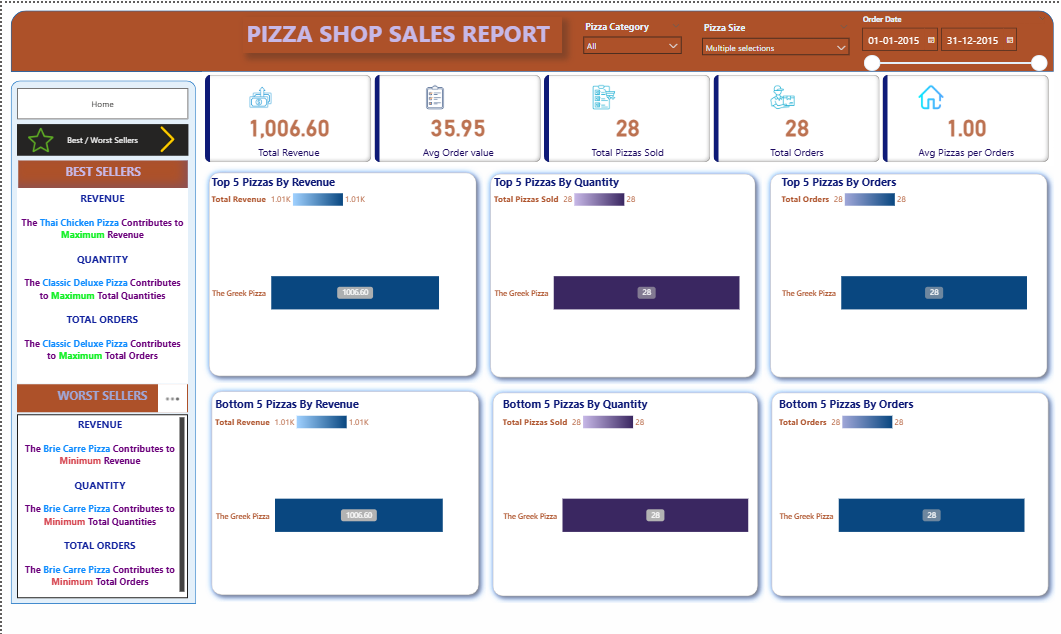

The dashboard page shown, as its layout file describes it:
{"tool":"powerbi","page":{"name":"Best / Worst Sellers","canvas":[1700,1020],"ordinal":1},"visuals":[{"type":"shape","box":[14.3,123.2,296.4,837.5],"z":0},{"type":"shape","box":[13.8,12.1,1669,98.3],"z":1000},{"type":"cardVisual","fields":{"Data":["Tbl_Pizza_Sales.Total Revenue","Tbl_Pizza_Sales.Avg Order value","Tbl_Pizza_Sales.Total Pizzas Sold","Tbl_Pizza_Sales.Total Orders","Tbl_Pizza_Sales.Avg Pizzas per Orders"]},"box":[320.7,110.3,1362.1,150],"z":2000},{"type":"shape","box":[320.7,260.3,450,348.3],"z":3000},{"type":"textbox","title":"PIZZA SHOP SALES REPORT","box":[386.2,21.5,510.8,58.5],"z":4000},{"type":"textbox","box":[26.8,251.8,271.4,44.6],"z":5000},{"type":"textbox","box":[25,296.4,273.2,312.5],"z":6000},{"type":"textbox","box":[25,610.7,273.2,44.6],"z":7000},{"type":"textbox","box":[25,657.1,273.2,294.6],"z":8000},{"type":"slicer","fields":{"Values":["Tbl_Pizza_Sales.pizza_category"]},"box":[920,21.5,176.9,70.8],"z":9000},{"type":"slicer","fields":{"Values":["Tbl_Pizza_Sales.order_date"]},"box":[1364.6,12.3,316.9,98.5],"z":10000},{"type":"shape","box":[770.7,262.1,446.6,348.3],"z":11000},{"type":"shape","box":[1217.2,262.1,465.5,348.3],"z":12000},{"type":"shape","box":[323.8,610,450,348.3],"z":13000},{"type":"shape","box":[773.8,611.7,446.6,348.3],"z":14000},{"type":"shape","box":[1220.3,611.7,465.5,348.3],"z":15000},{"type":"barChart","title":"Top 5 Pizzas By Revenue","fields":{"Category":["Tbl_Pizza_Sales.pizza_name"],"Y":["Tbl_Pizza_Sales.Total Revenue"]},"box":[329.3,274.1,424.1,322.4],"z":16000},{"type":"barChart","title":"Bottom 5 Pizzas By Revenue","fields":{"Category":["Tbl_Pizza_Sales.pizza_name"],"Y":["Tbl_Pizza_Sales.Total Revenue"]},"box":[336.2,629.3,424.1,322.4],"z":17000},{"type":"barChart","title":"Top 5 Pizzas By Quantity","fields":{"Category":["Tbl_Pizza_Sales.pizza_name"],"Y":["Tbl_Pizza_Sales.Total Pizzas Sold"]},"box":[782.8,274.1,424.1,322.4],"z":18000},{"type":"barChart","title":"Bottom 5 Pizzas By Quantity","fields":{"Category":["Tbl_Pizza_Sales.pizza_name"],"Y":["Tbl_Pizza_Sales.Total Pizzas Sold"]},"box":[796.6,629.3,424.1,322.4],"z":19000},{"type":"barChart","title":"Top 5 Pizzas By Orders","fields":{"Category":["Tbl_Pizza_Sales.pizza_name"],"Y":["Tbl_Pizza_Sales.Total Orders"]},"box":[1241.4,274.1,424.1,322.4],"z":20000},{"type":"barChart","title":"Bottom 5 Pizzas By Orders","fields":{"Category":["Tbl_Pizza_Sales.pizza_name"],"Y":["Tbl_Pizza_Sales.Total Orders"]},"box":[1237.9,629.3,424.1,322.4],"z":21000},{"type":"pageNavigator","box":[24.1,193.1,274.1,50],"z":22000},{"type":"pageNavigator","box":[24.1,136.2,274.1,50],"z":23000},{"type":"image","box":[229.2,192.7,69.8,52.1],"z":24000},{"type":"image","box":[27.7,193.8,67.7,50.8],"z":26000},{"type":"slicer","fields":{"Values":["Tbl_Pizza_Sales.pizza_size"]},"box":[1109.2,24.6,255.4,72.3],"z":27000}]}

Visuals, with their boxes in screenshot pixels (x1, y1, x2, y2), scaled from the page's 1700x1020 canvas onto the 1061x634 screenshot:
shape: bbox=(9, 77, 194, 597)
shape: bbox=(9, 8, 1050, 69)
cardVisual - Tbl_Pizza_Sales.Total Revenue x Tbl_Pizza_Sales.Avg Order value: bbox=(200, 69, 1050, 162)
shape: bbox=(200, 162, 481, 378)
"PIZZA SHOP SALES REPORT" textbox: bbox=(241, 13, 560, 50)
textbox: bbox=(17, 157, 186, 184)
textbox: bbox=(16, 184, 186, 378)
textbox: bbox=(16, 380, 186, 407)
textbox: bbox=(16, 408, 186, 592)
slicer - Tbl_Pizza_Sales.pizza_category: bbox=(574, 13, 685, 57)
slicer - Tbl_Pizza_Sales.order_date: bbox=(852, 8, 1049, 69)
shape: bbox=(481, 163, 760, 379)
shape: bbox=(760, 163, 1050, 379)
shape: bbox=(202, 379, 483, 596)
shape: bbox=(483, 380, 762, 597)
shape: bbox=(762, 380, 1052, 597)
"Top 5 Pizzas By Revenue" barChart: bbox=(206, 170, 470, 371)
"Bottom 5 Pizzas By Revenue" barChart: bbox=(210, 391, 475, 592)
"Top 5 Pizzas By Quantity" barChart: bbox=(489, 170, 753, 371)
"Bottom 5 Pizzas By Quantity" barChart: bbox=(497, 391, 762, 592)
"Top 5 Pizzas By Orders" barChart: bbox=(775, 170, 1039, 371)
"Bottom 5 Pizzas By Orders" barChart: bbox=(773, 391, 1037, 592)
pageNavigator: bbox=(15, 120, 186, 151)
pageNavigator: bbox=(15, 85, 186, 116)
image: bbox=(143, 120, 187, 152)
image: bbox=(17, 120, 60, 152)
slicer - Tbl_Pizza_Sales.pizza_size: bbox=(692, 15, 852, 60)
